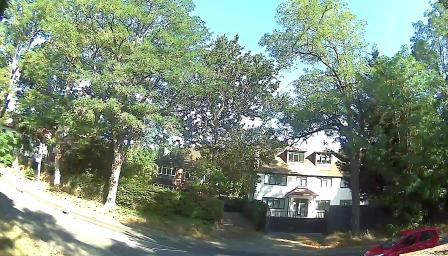Cars: (339, 216, 447, 256)
